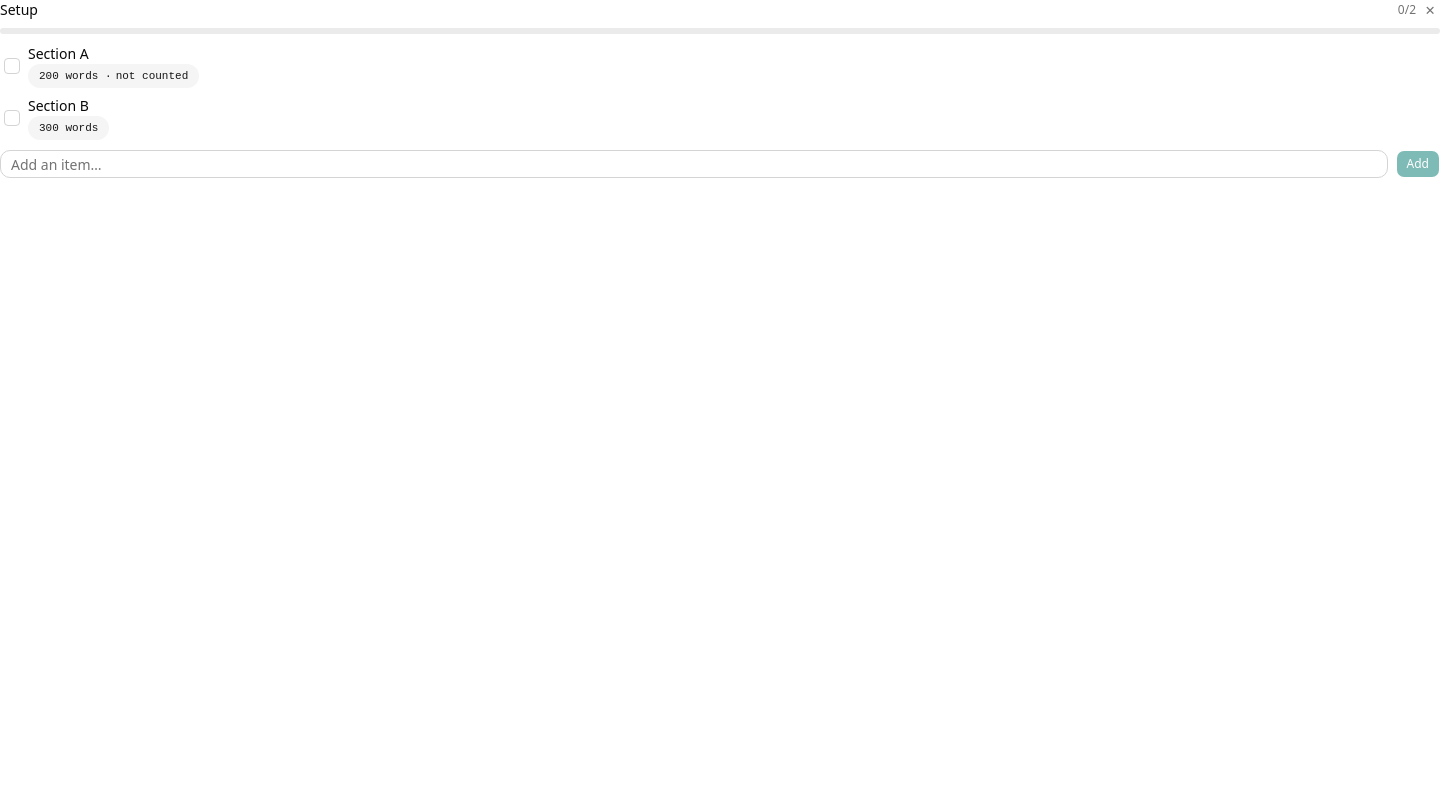
TaskChecklist › words on translation projects › marks an item left out of the total
Expected: the text "not counted" is shown once, [116,68,188,84]
What coordinates should you click on to do the following:
click the text "Section A"
I would click on:
 (58, 54)
Its box is [28,44,89,63].
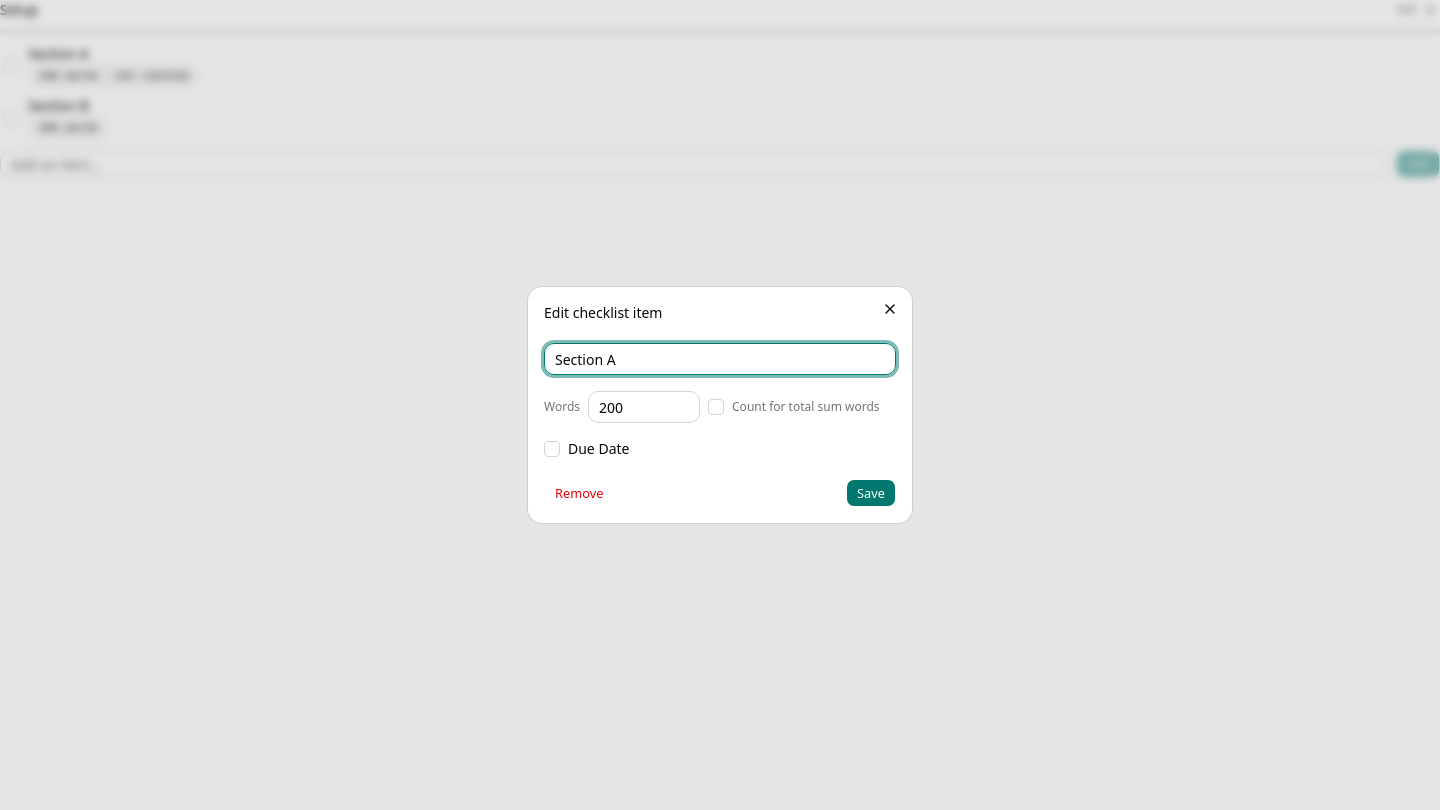
Expected: the checkbox named "Count for total sum words" next to "Count for total sum words" is not checked, [708,399,724,415]
